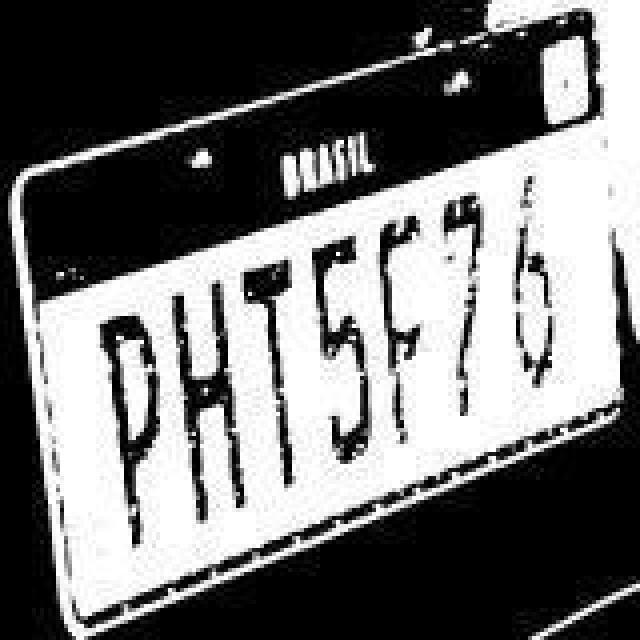5: (308, 230, 364, 482)
6: (510, 166, 570, 386)
7: (442, 178, 510, 414)
F: (380, 198, 428, 450)
H: (160, 274, 240, 526)
P: (94, 284, 162, 548)
T: (240, 246, 304, 490)
